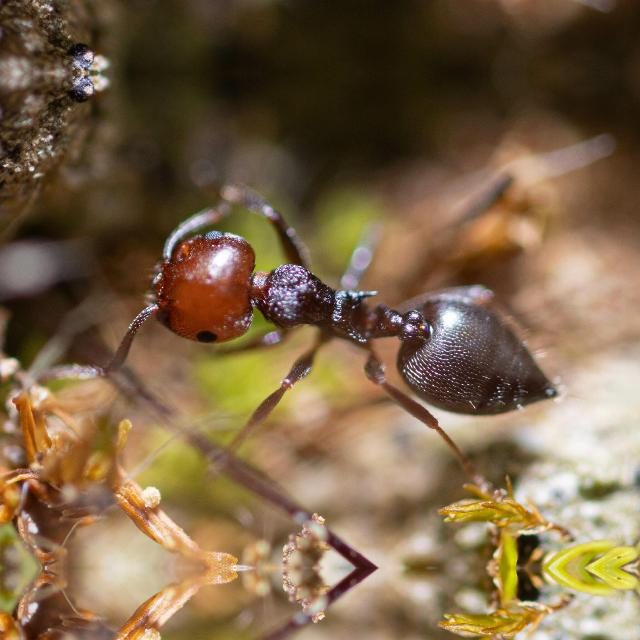Crematogaster: (153, 194, 571, 450)
